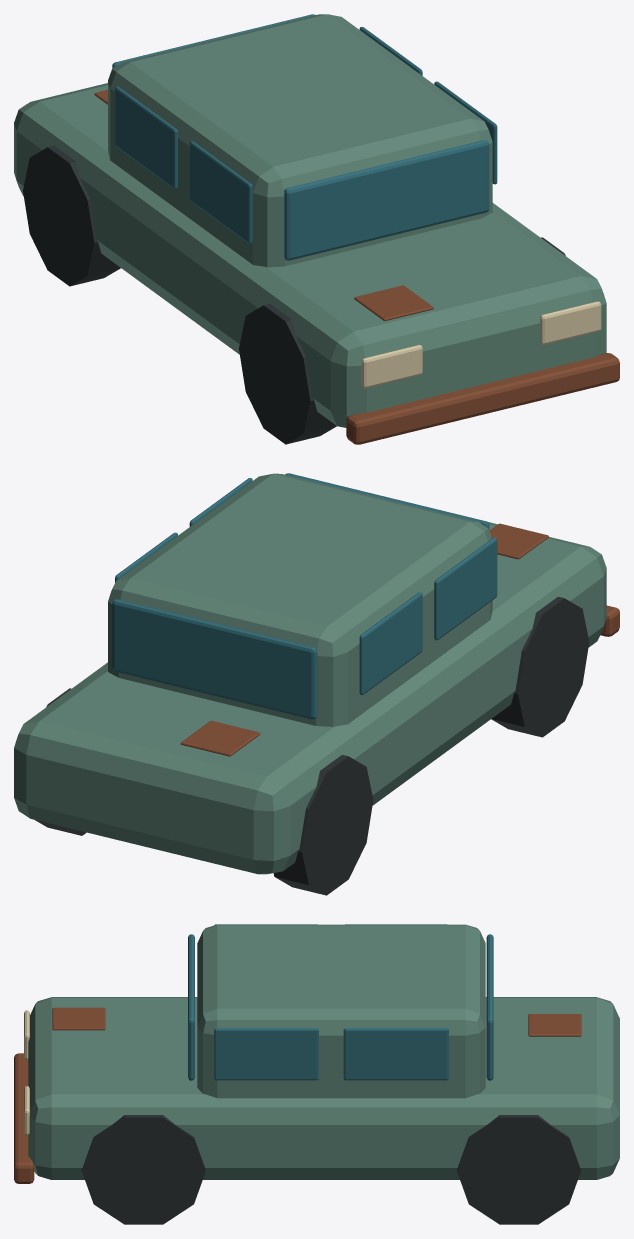
File: abandoned-car.glb
3 views of the same model, one above another, from view 1: azimuth 30°, elevation 25°; view 2: azimuth 150°, elevation 25°; view 3: azimuth 270°, elevation 25° (orthographic). The views are drawn at different scales.
Visible parts, largest first — view 1: AbandonedCar; view 2: AbandonedCar; view 3: AbandonedCar.
Part boxes in pixels (bbox=[...]): AbandonedCar: bbox=[14, 14, 619, 444]; AbandonedCar: bbox=[14, 473, 619, 895]; AbandonedCar: bbox=[14, 924, 619, 1224].
Bounding box in the file's own units: 1.94 × 1.52 × 4.2.
